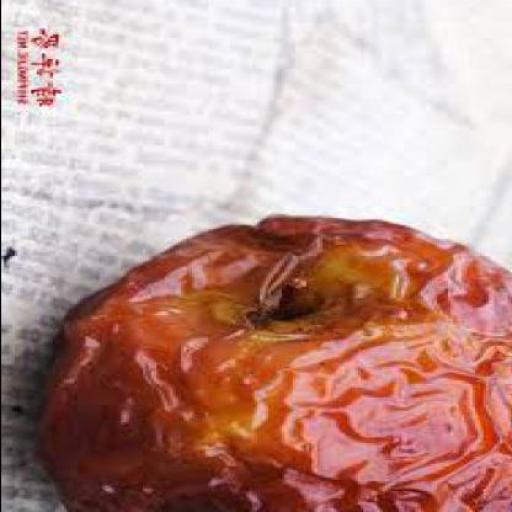biodegradable: (31, 215, 511, 512)
